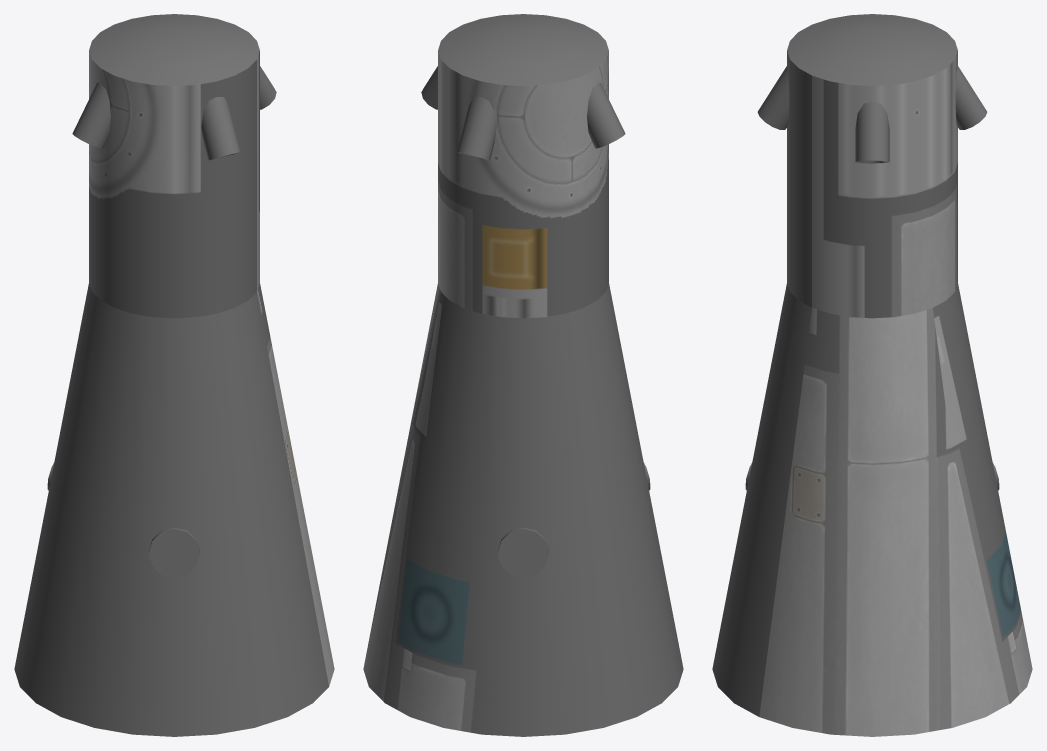
File: alnair_engine_s0p5_1.obj
The picture shows the model from 3 angles, left to right: view 1: azimuth 30°, elevation 25°; view 2: azimuth 150°, elevation 25°; view 3: azimuth 270°, elevation 25°; orthographic projection.
Visible parts, largest first — view 1: mesh1; view 2: mesh1; view 3: mesh1.
Part boxes in pixels (left/top/right/bottom): mesh1: left=14, top=14, right=334, bottom=736; mesh1: left=363, top=14, right=683, bottom=736; mesh1: left=712, top=14, right=1032, bottom=736.
Bounding box in the file's own units: 0.9375 × 2.04 × 0.9375.
Materials: 1 (1 with a texture image).
